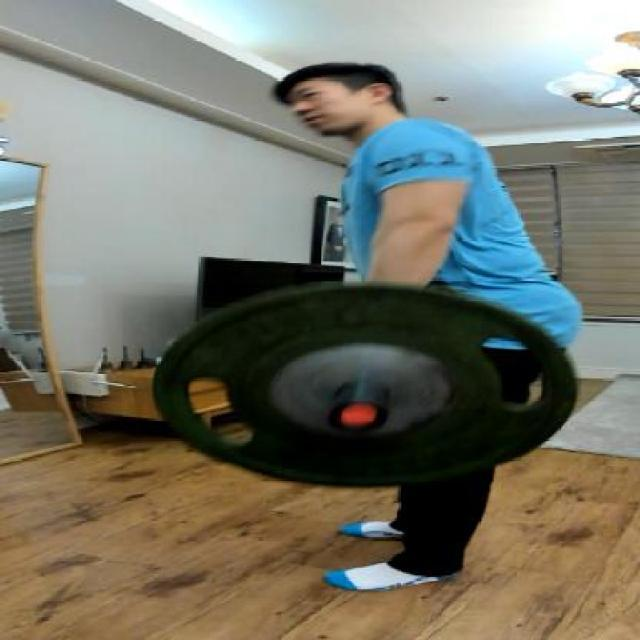Barbell: (321, 394, 396, 436)
